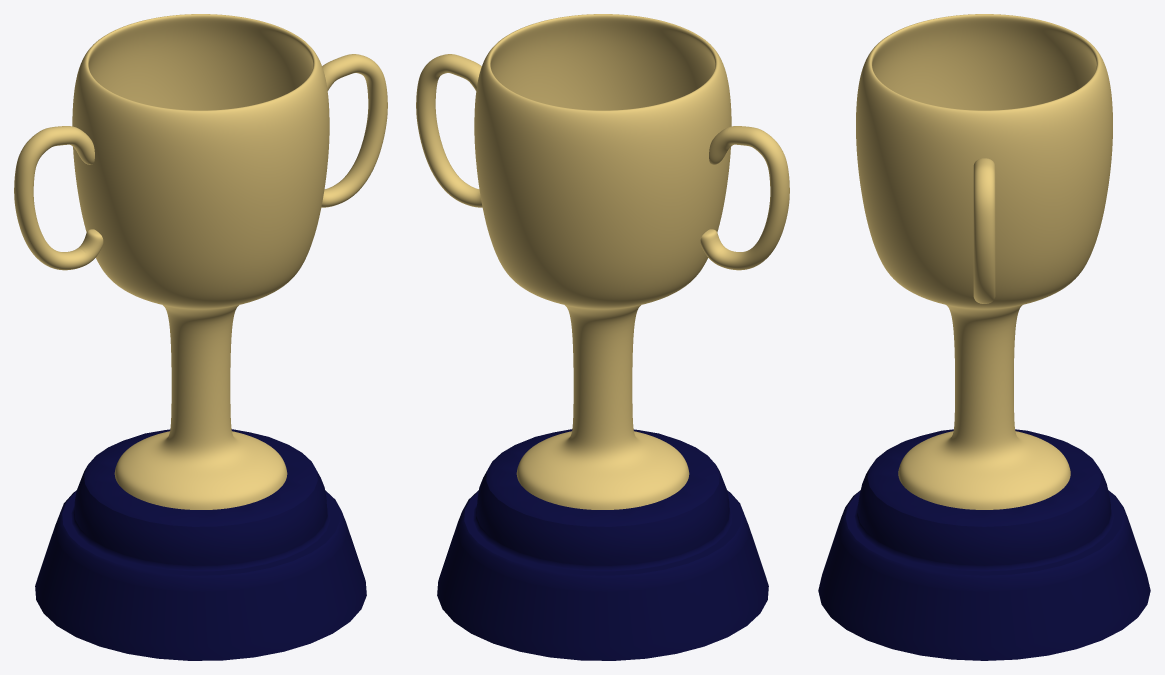
Rendered from puchar5.fbx.
The picture shows the model from 3 angles, left to right: view 1: azimuth 30°, elevation 25°; view 2: azimuth 150°, elevation 25°; view 3: azimuth 270°, elevation 25°; orthographic projection.
Parts seen in each view (by area): view 1: Circle; view 2: Circle; view 3: Circle.
Part boxes in pixels (x1=…): Circle: x1=14, y1=14, x2=387, y2=660; Circle: x1=416, y1=14, x2=789, y2=660; Circle: x1=818, y1=14, x2=1150, y2=660.
Bounding box in the file's own units: 362 × 495 × 282.
